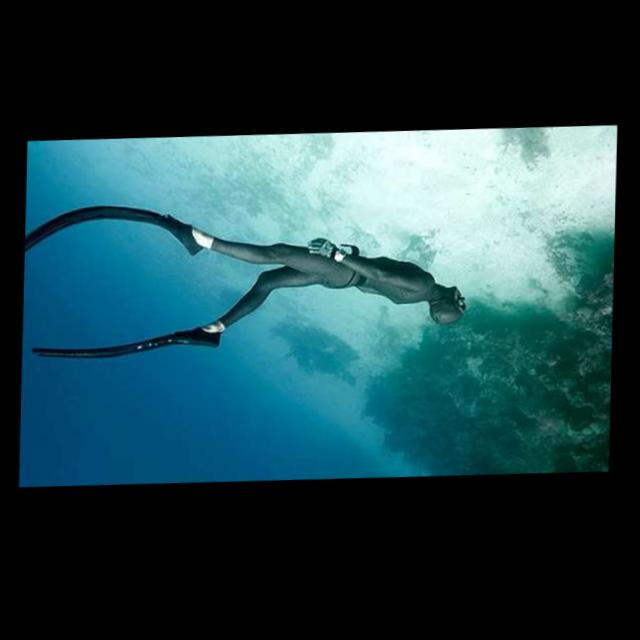human: (190, 198, 475, 354)
